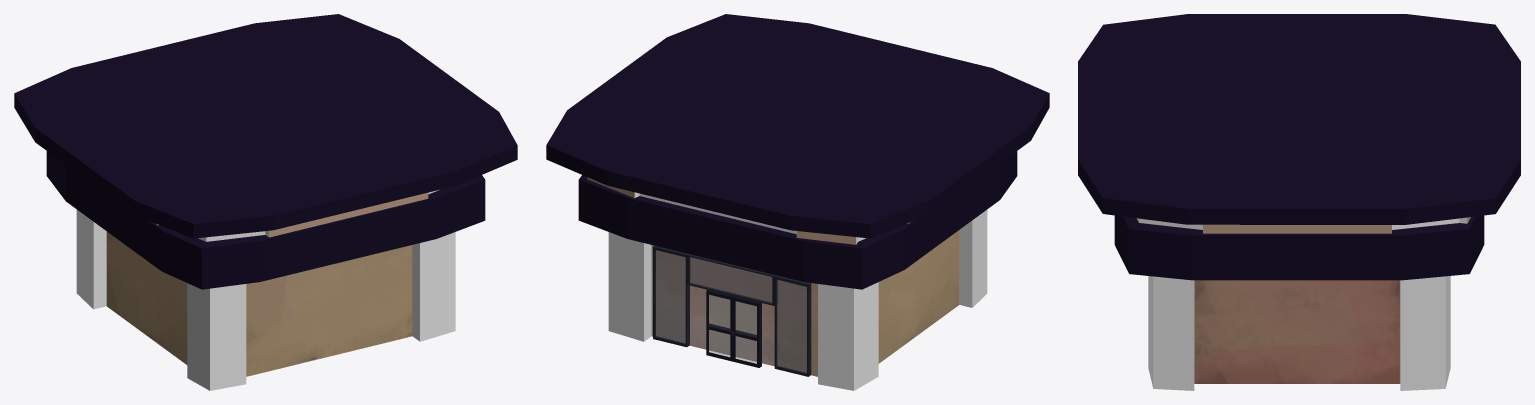
The model's file is boba-shop-roof-on.glb.
3 views of the same model, side by side, from view 1: azimuth 30°, elevation 25°; view 2: azimuth 150°, elevation 25°; view 3: azimuth 270°, elevation 25° (orthographic). The views are drawn at different scales.
Visible parts, largest first — view 1: roof, shop exterior walls.001, shop exterior walls.003, shop exterior corners.001, shop exterior corners.002, shop exterior corners; view 2: roof, shop exterior walls, shop exterior walls.003, shop exterior corners, shop exterior corners.003, outside door, side long window, side long window 2, top window, shop exterior corners.001; view 3: roof, shop exterior walls.002, shop exterior corners.003, shop exterior corners.002.
Part boxes in pixels (left/top/right/bottom): roof: left=14, top=14, right=517, bottom=289; shop exterior walls.001: left=246, top=245, right=412, bottom=376; shop exterior walls.003: left=106, top=231, right=187, bottom=364; shop exterior corners.001: left=187, top=283, right=246, bottom=390; shop exterior corners.002: left=412, top=232, right=455, bottom=341; shop exterior corners: left=76, top=209, right=106, bottom=309; roof: left=546, top=14, right=1049, bottom=289; shop exterior walls: left=651, top=245, right=817, bottom=376; shop exterior walls.003: left=878, top=230, right=959, bottom=363; shop exterior corners: left=818, top=282, right=878, bottom=390; shop exterior corners.003: left=608, top=232, right=651, bottom=341; outside door: left=706, top=290, right=761, bottom=367; side long window: left=774, top=275, right=811, bottom=376; side long window 2: left=653, top=245, right=689, bottom=347; top window: left=687, top=254, right=777, bottom=305; shop exterior corners.001: left=959, top=210, right=987, bottom=307; roof: left=1078, top=14, right=1520, bottom=280; shop exterior walls.002: left=1194, top=280, right=1400, bottom=383; shop exterior corners.003: left=1400, top=276, right=1450, bottom=390; shop exterior corners.002: left=1148, top=276, right=1194, bottom=390.
Size of the model in its own units: 26.54 by 13.56 by 25.48.
Materials: 61 (4 with a texture image).
